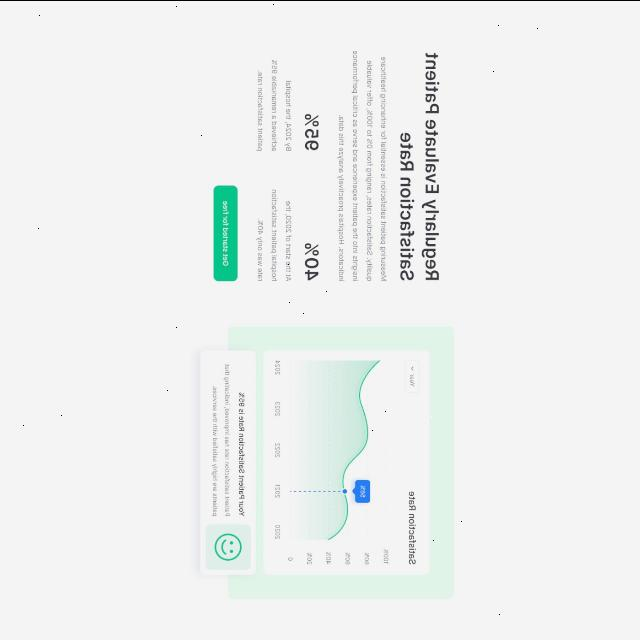QLabel: (338, 49, 388, 281), (401, 51, 442, 282), (257, 187, 293, 281), (257, 58, 293, 152), (211, 362, 231, 516), (214, 185, 240, 282), (238, 392, 246, 516), (304, 112, 322, 150), (306, 242, 320, 280), (222, 199, 230, 265)
VCard: (228, 324, 456, 600), (200, 348, 258, 574)
VImg: (206, 523, 252, 569)
VSparkline: (264, 348, 432, 574)
